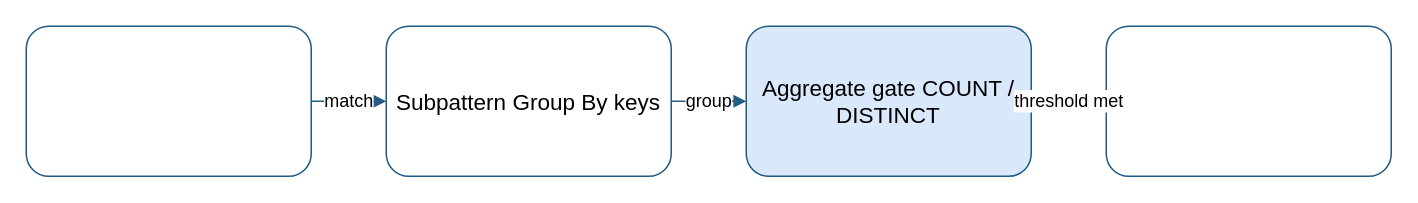
The diagram is 1418 pixels wide and 203 high, and some of its shapes have lost their labels. The shapes that lost their labels are listed below. From the top down, each one's centre as x and y in pixels, then its label:
At [168,100]: "Normalized events Attribute filters".
At [1248,100]: "Incident Attributes + clear".
